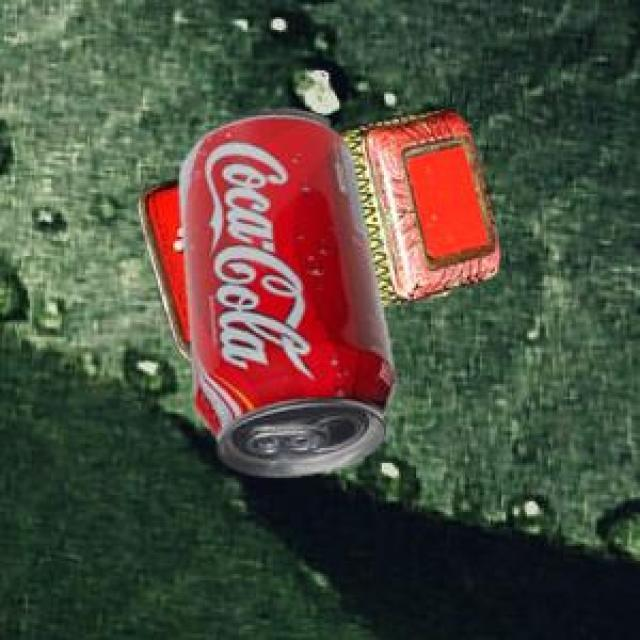Can: (135, 108, 496, 357), (176, 106, 391, 473)
